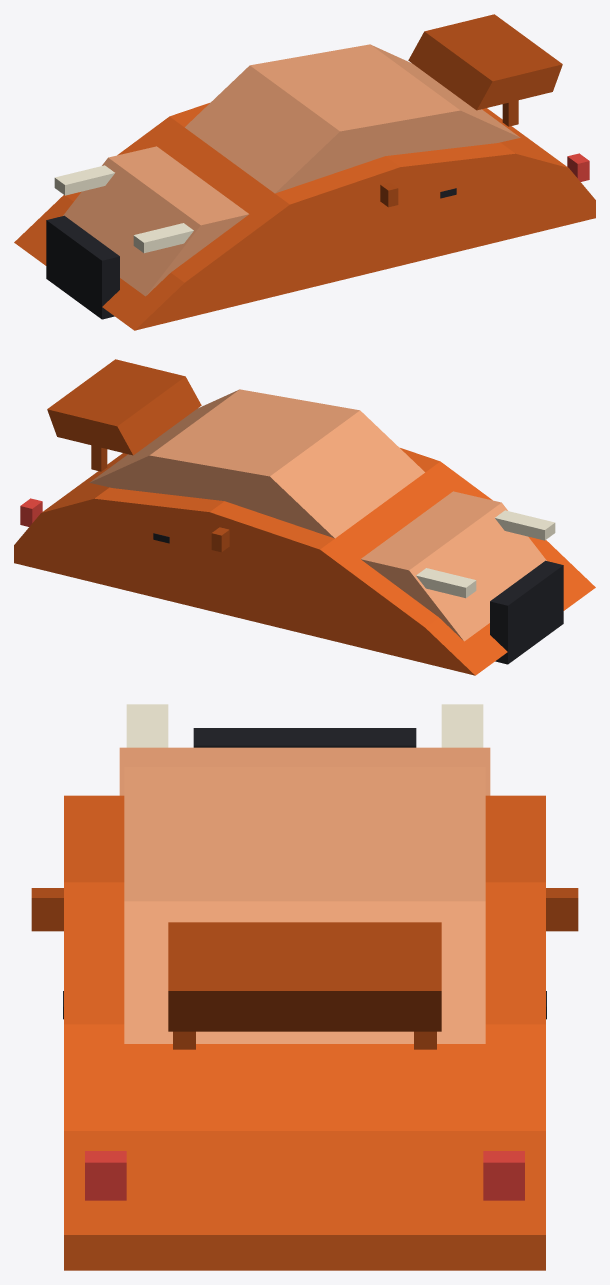
File: Deportivo.obj
3 views of the same model, one above another, from view 1: azimuth 30°, elevation 25°; view 2: azimuth 150°, elevation 25°; view 3: azimuth 270°, elevation 25° (orthographic). The views are drawn at different scales.
Visible parts, largest first — view 1: body_shell, cabin, hood_top, spoiler_wing, front_grille, headlight_L, headlight_R, tail_R; view 2: body_shell, cabin, hood_top, spoiler_wing, front_grille, headlight_R, headlight_L, tail_L; view 3: body_shell, cabin, spoiler_wing, hood_top, front_grille, tail_L, tail_R, headlight_L, headlight_R, mirror_L, mirror_R.
Boxes of the visible parts, x1=… form: body_shell: x1=14, y1=103, x2=595, y2=330; cabin: x1=185, y1=44, x2=520, y2=193; hood_top: x1=63, y1=146, x2=248, y2=296; spoiler_wing: x1=408, y1=14, x2=562, y2=110; front_grille: x1=46, y1=215, x2=119, y2=319; headlight_L: x1=54, y1=165, x2=114, y2=195; headlight_R: x1=133, y1=223, x2=193, y2=253; tail_R: x1=567, y1=153, x2=589, y2=181; body_shell: x1=14, y1=448, x2=595, y2=675; cabin: x1=89, y1=389, x2=424, y2=538; hood_top: x1=361, y1=491, x2=546, y2=641; spoiler_wing: x1=47, y1=359, x2=201, y2=455; front_grille: x1=490, y1=560, x2=563, y2=664; headlight_R: x1=495, y1=510, x2=555, y2=540; headlight_L: x1=416, y1=568, x2=476, y2=598; tail_L: x1=20, y1=498, x2=42, y2=526; body_shell: x1=64, y1=795, x2=545, y2=1270; cabin: x1=124, y1=767, x2=485, y2=1043; spoiler_wing: x1=168, y1=922, x2=441, y2=1031; hood_top: x1=119, y1=747, x2=490, y2=795; front_grille: x1=193, y1=728, x2=416, y2=747; tail_L: x1=483, y1=1151, x2=524, y2=1200; tail_R: x1=85, y1=1151, x2=126, y2=1200; headlight_L: x1=441, y1=704, x2=483, y2=747; headlight_R: x1=126, y1=704, x2=168, y2=747; mirror_L: x1=546, y1=888, x2=578, y2=931; mirror_R: x1=31, y1=888, x2=63, y2=931.
Bounding box in the file's own units: 4.6 × 1.42 × 2.36.
